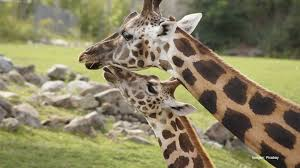Jirafa: (77, 10, 228, 71), (98, 64, 211, 143)
